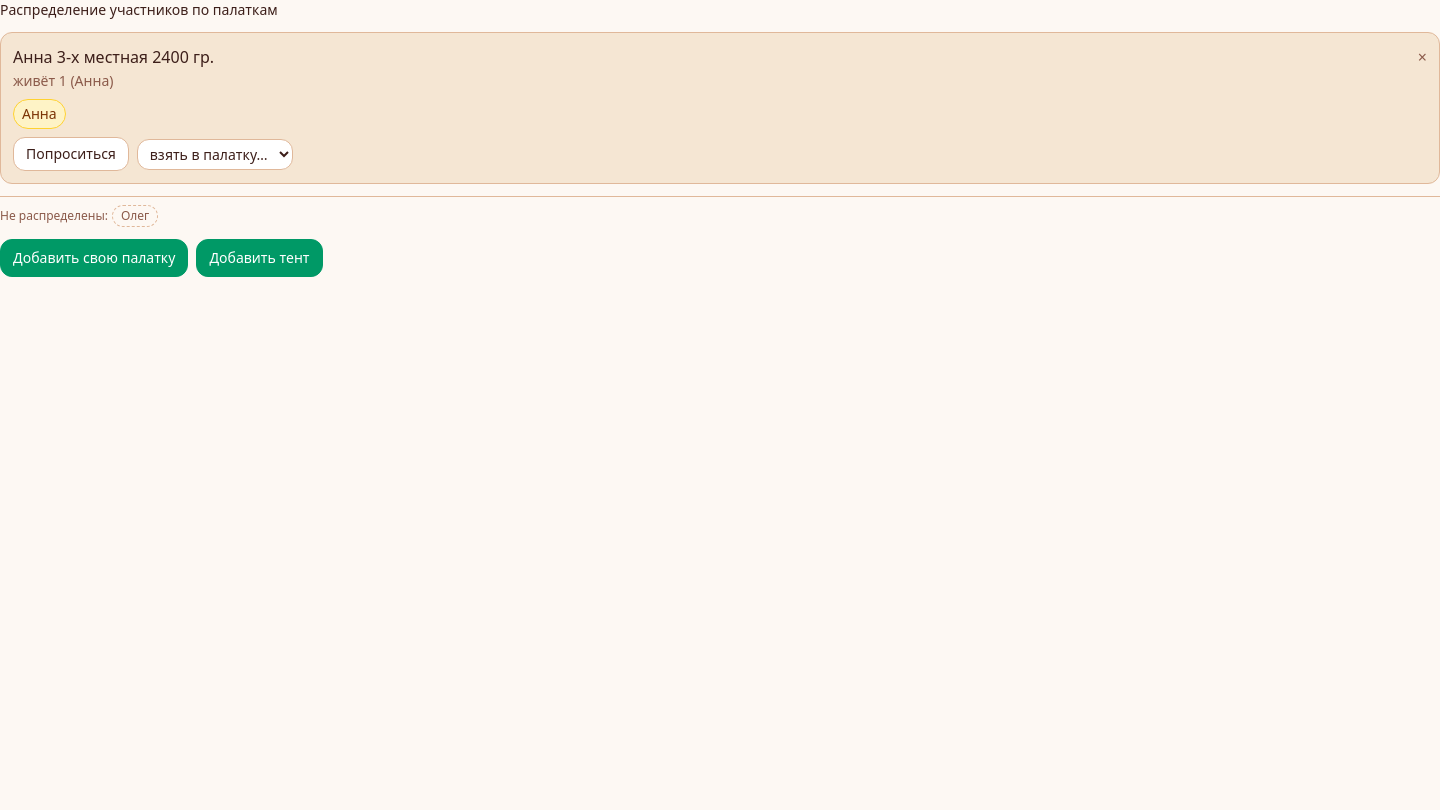
Test: секция «Палатки» › «Добавить тент» берёт вещь типа «Тент» и уводит её в поход
Click the button with test id "route-tent-awning": (259, 258) [196,239,322,277]
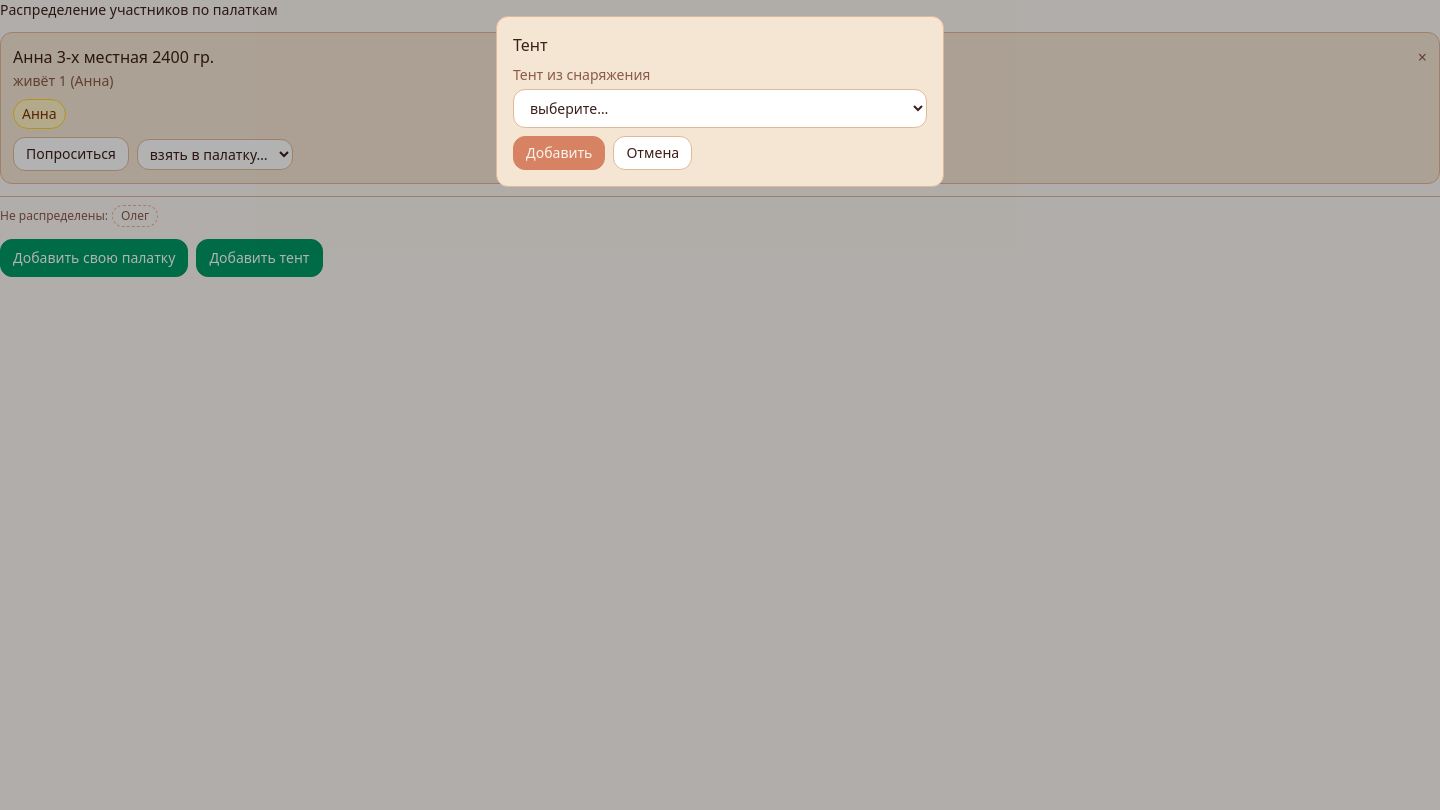
Expected: the element with test id "route-awning-dialog" is shown
Select "Тент 3×4" in the dropdown with test id "route-awning-gear": (720, 108) [513,89,927,128]
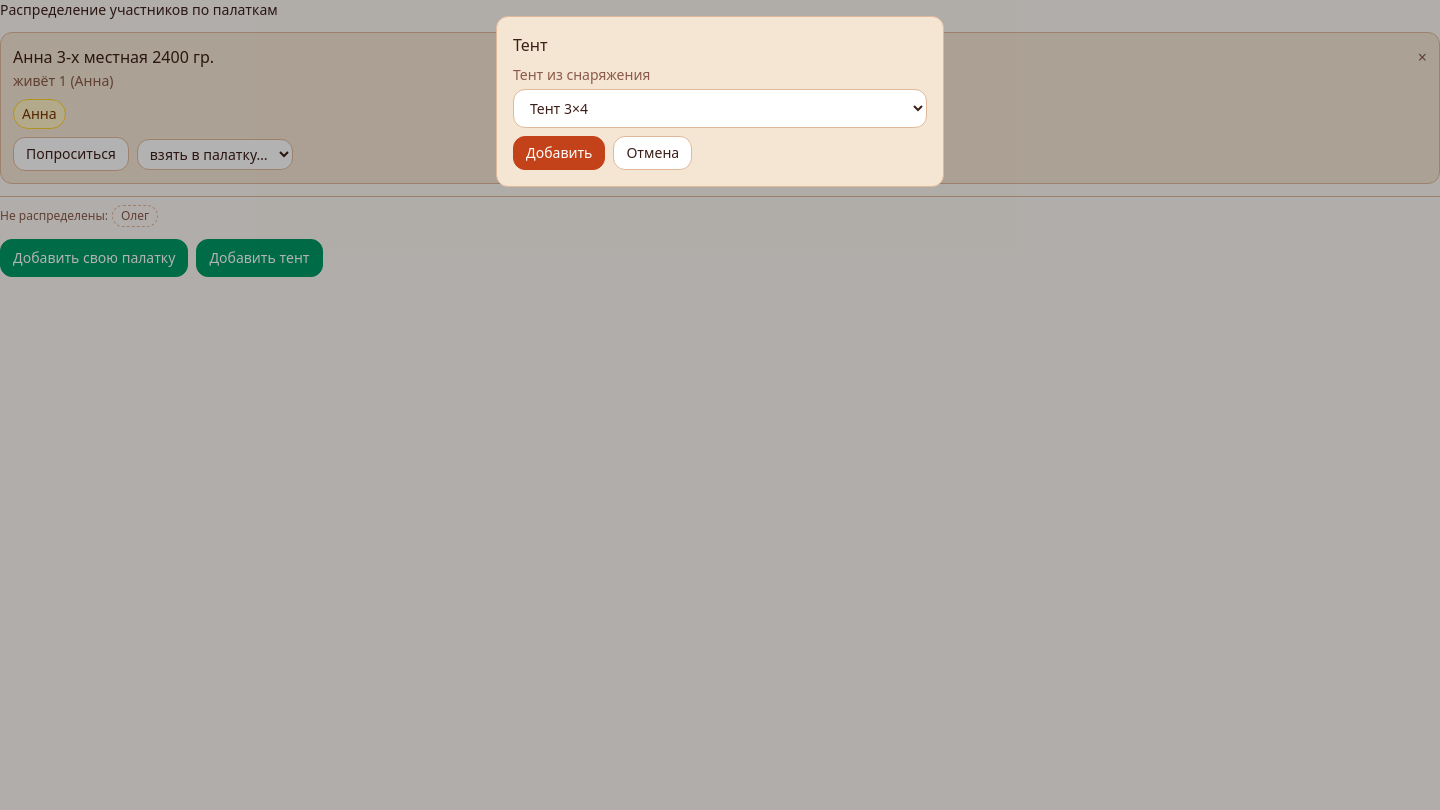
Click the button with test id "route-awning-save": (559, 153) [513,136,605,170]
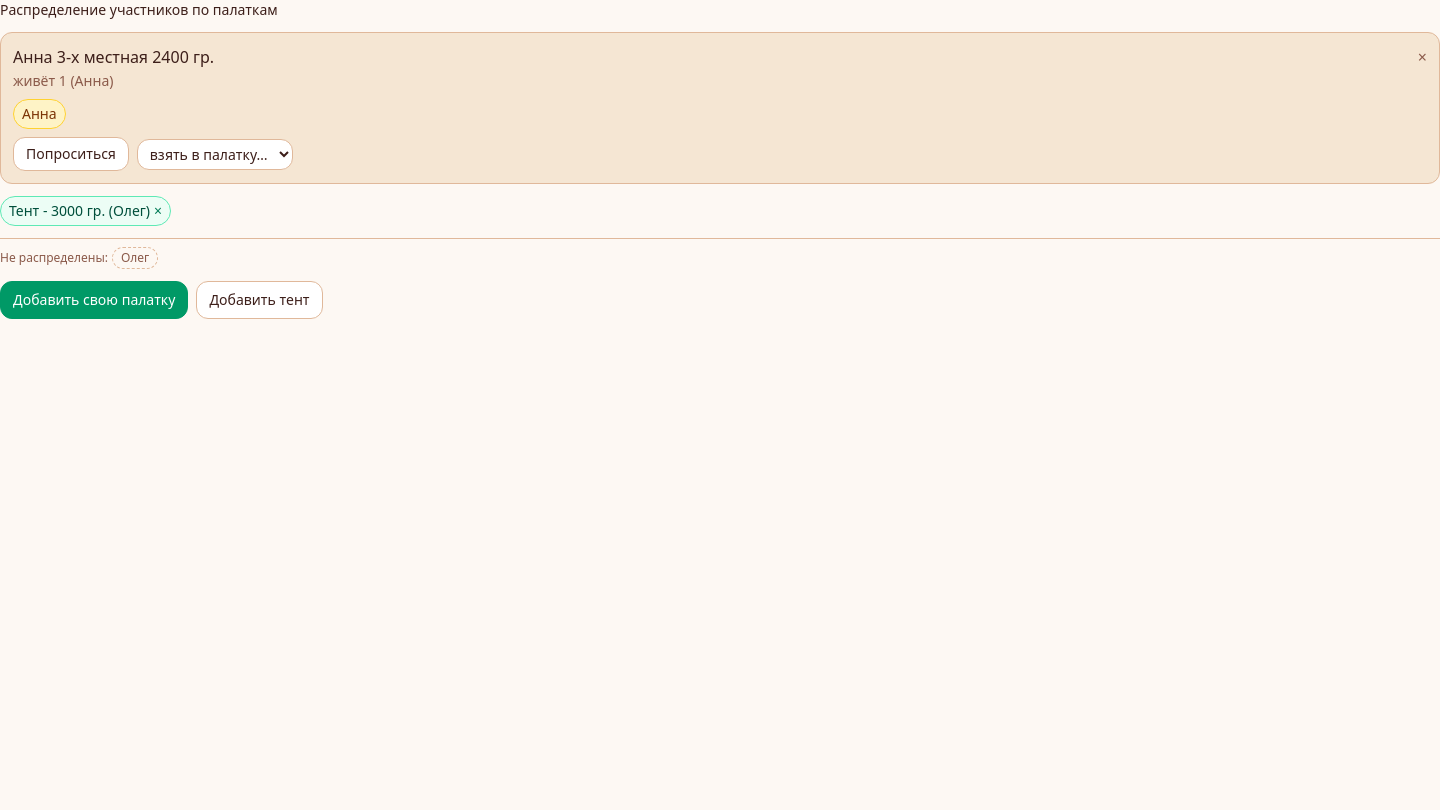
Expected: the number of elements with test id "route-tent" is 1, [0,32,1439,184]
Expected: the text "Тент - 3000 гр. (Олег)" is shown, [9,201,150,221]
